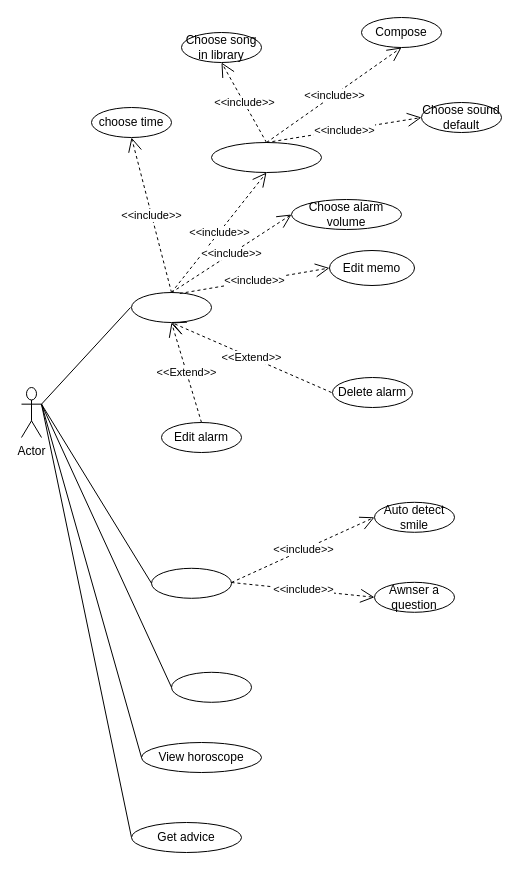
This 519x870 diagram has some shape labels left out. The shapes that lost their labels are listed below. From the top down, each one's centre as x and y in pixels, then its label:
At point (266, 157): "Choose alarm sound".
At point (171, 307): "Set alarm".
At point (191, 582): "Turn of alarm".
At point (211, 686): "View weather".
